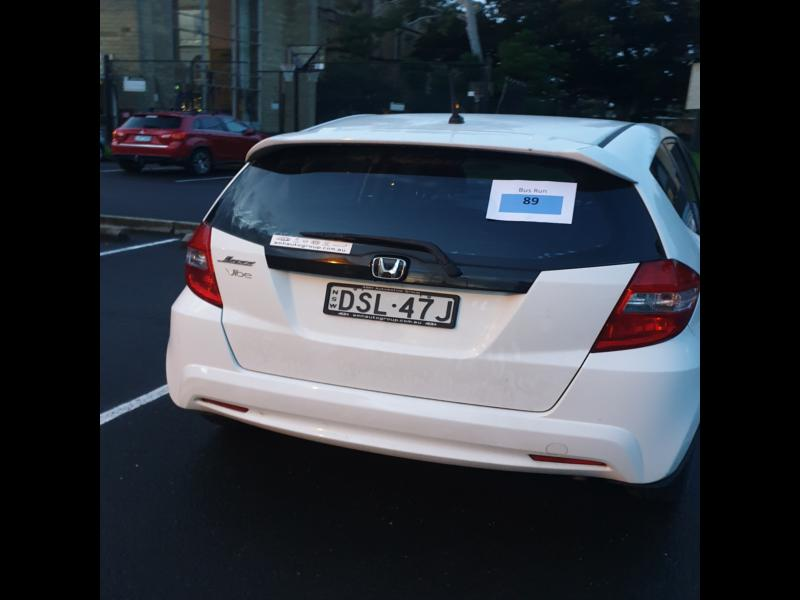BusRun: (502, 192, 563, 216)
PlateNo: (325, 281, 455, 324)
